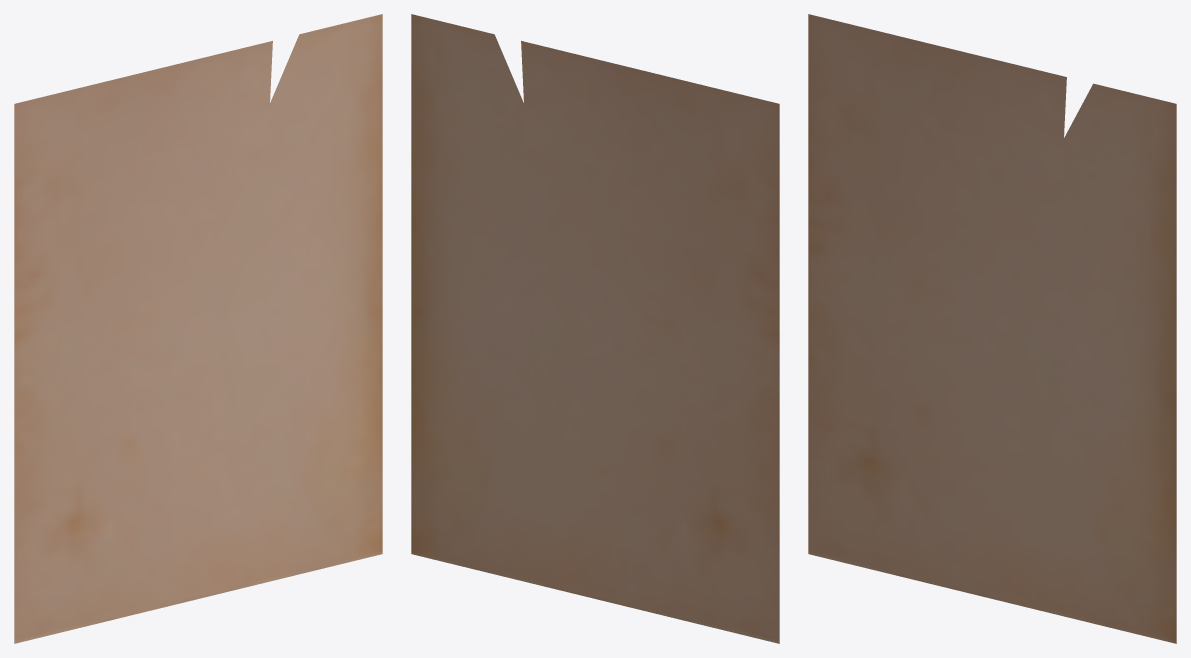
File: Paper_A.fbx
3 views of the same model, side by side, from view 1: azimuth 30°, elevation 25°; view 2: azimuth 150°, elevation 25°; view 3: azimuth 330°, elevation 25° (orthographic).
Parts seen in each view (by area): view 1: Paper_A; view 2: Paper_A; view 3: Paper_A.
Boxes of the visible parts, left/top/right/bottom form: Paper_A: left=14, top=14, right=382, bottom=643; Paper_A: left=411, top=14, right=779, bottom=643; Paper_A: left=808, top=14, right=1176, bottom=643.
Bounding box in the file's own units: 0.3325 × 0.4656 × 2.85e-17.
